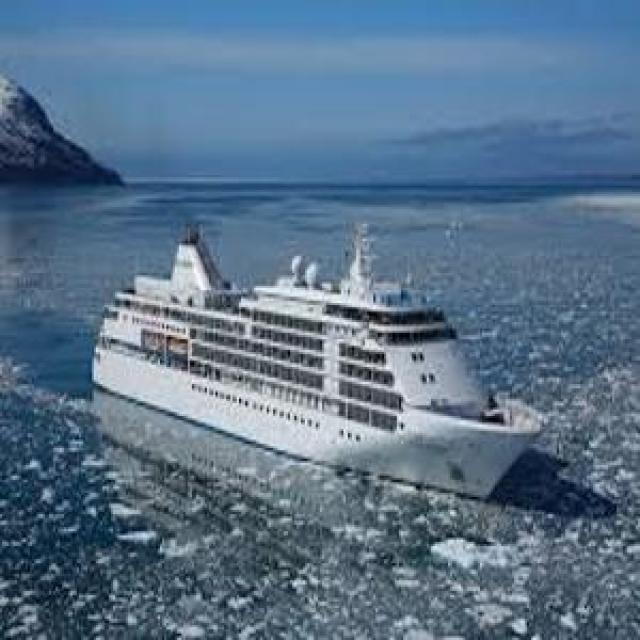passenger ship: (82, 222, 539, 500)
